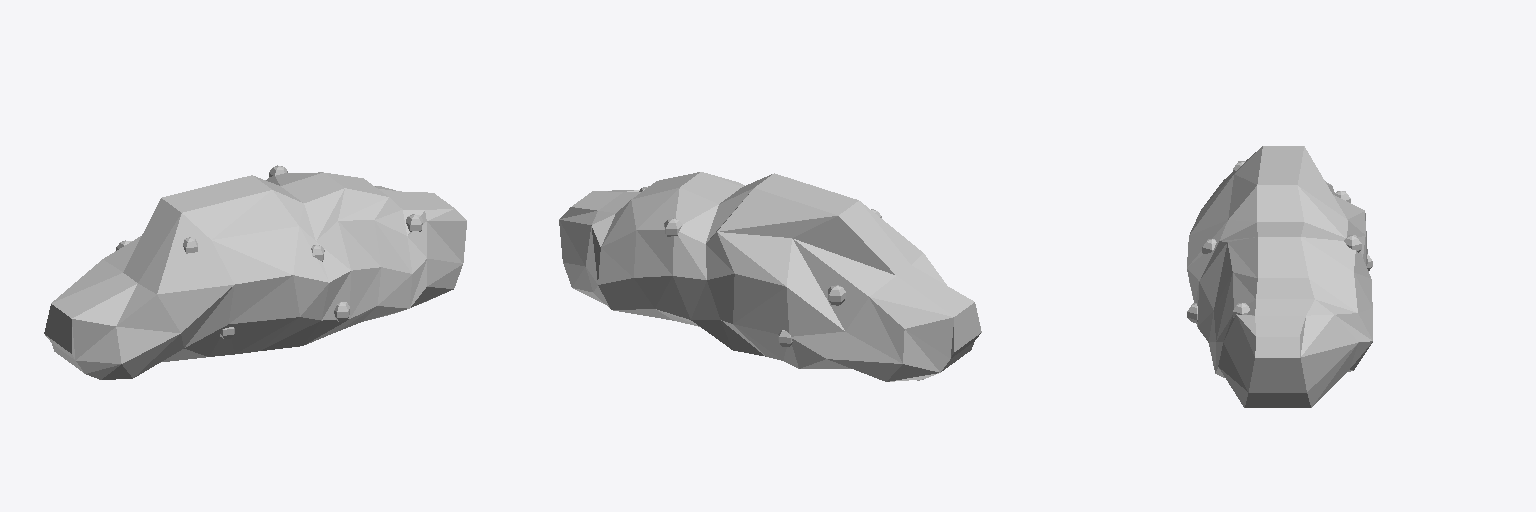
Rendered from buisson_gros_fleur.obj.
3 renders of one model, left to right at view 1: azimuth 30°, elevation 25°; view 2: azimuth 150°, elevation 25°; view 3: azimuth 270°, elevation 25°, orthographic.
Parts seen in each view (by area): view 1: Bushes:bigB; view 2: Bushes:bigB; view 3: Bushes:bigB.
Boxes of the visible parts, x1=… form: Bushes:bigB: x1=44, y1=165, x2=466, y2=379; Bushes:bigB: x1=559, y1=172, x2=981, y2=381; Bushes:bigB: x1=1187, y1=146, x2=1372, y2=407.
Size of the model in its own units: 8.86 by 3.12 by 3.6.